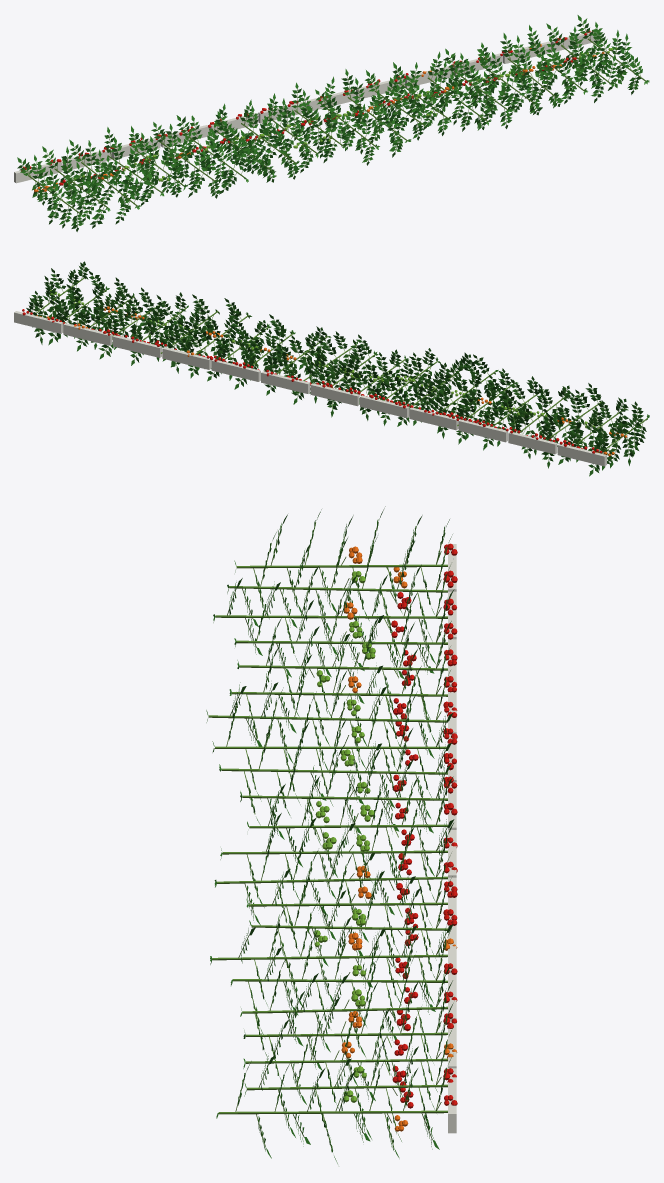
The model's file is row12.obj.
3 renders of one model, top to bottom at view 1: azimuth 30°, elevation 25°; view 2: azimuth 150°, elevation 25°; view 3: azimuth 270°, elevation 25°, orthographic. The views are drawn at different scales.
Visible parts, largest first — view 1: row12; view 2: row12; view 3: row12.
Boxes of the visible parts, x1,y1,x2,y2 form: row12: [14, 15, 649, 231]; row12: [14, 261, 649, 476]; row12: [206, 506, 457, 1163].
Size of the model in its own units: 12.5 by 1.17 by 2.32.
